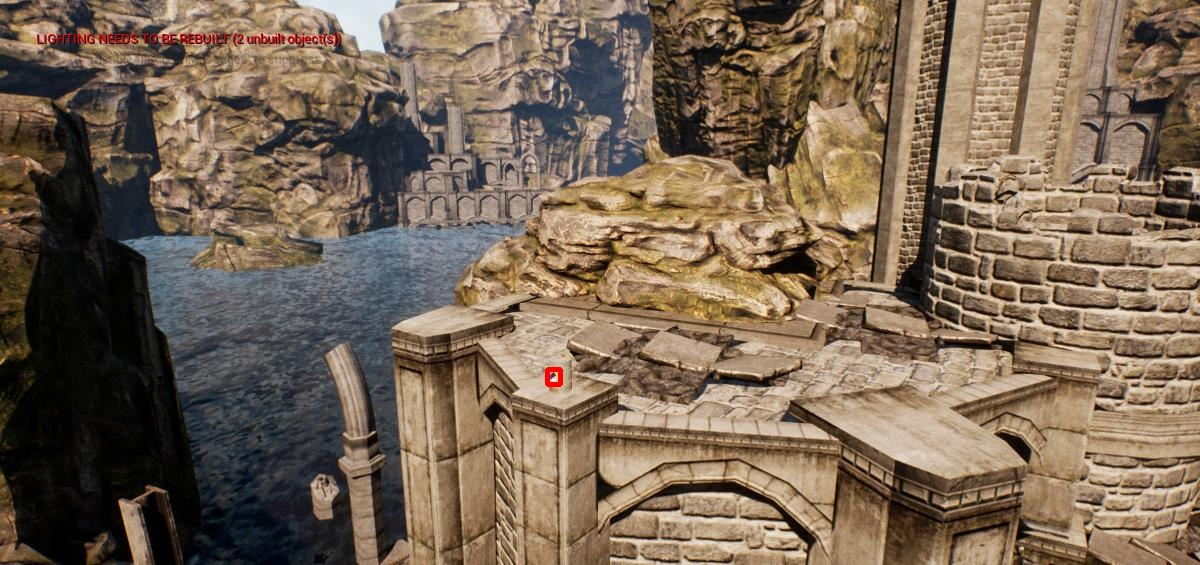nfpa: (547, 369, 560, 384)
